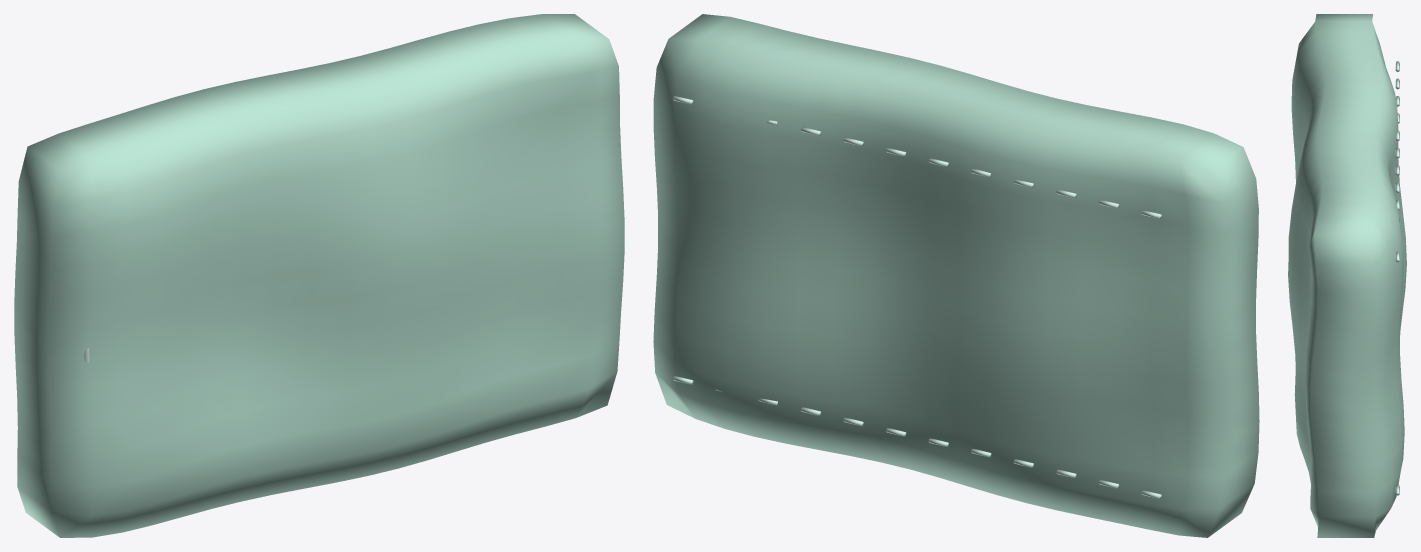
Rendered from towel_thick.glb.
3 renders of one model, left to right at view 1: azimuth 30°, elevation 25°; view 2: azimuth 150°, elevation 25°; view 3: azimuth 270°, elevation 25°, orthographic. The views are drawn at different scales.
Visible parts, largest first — view 1: Body; view 2: Body; view 3: Body.
Part boxes in pixels (bbox=[...]): Body: bbox=[14, 14, 624, 537]; Body: bbox=[653, 14, 1259, 537]; Body: bbox=[1288, 14, 1406, 537].
Bounding box in the file's own units: 0.28 × 0.18 × 0.061.
2 materials, 2 textured.
